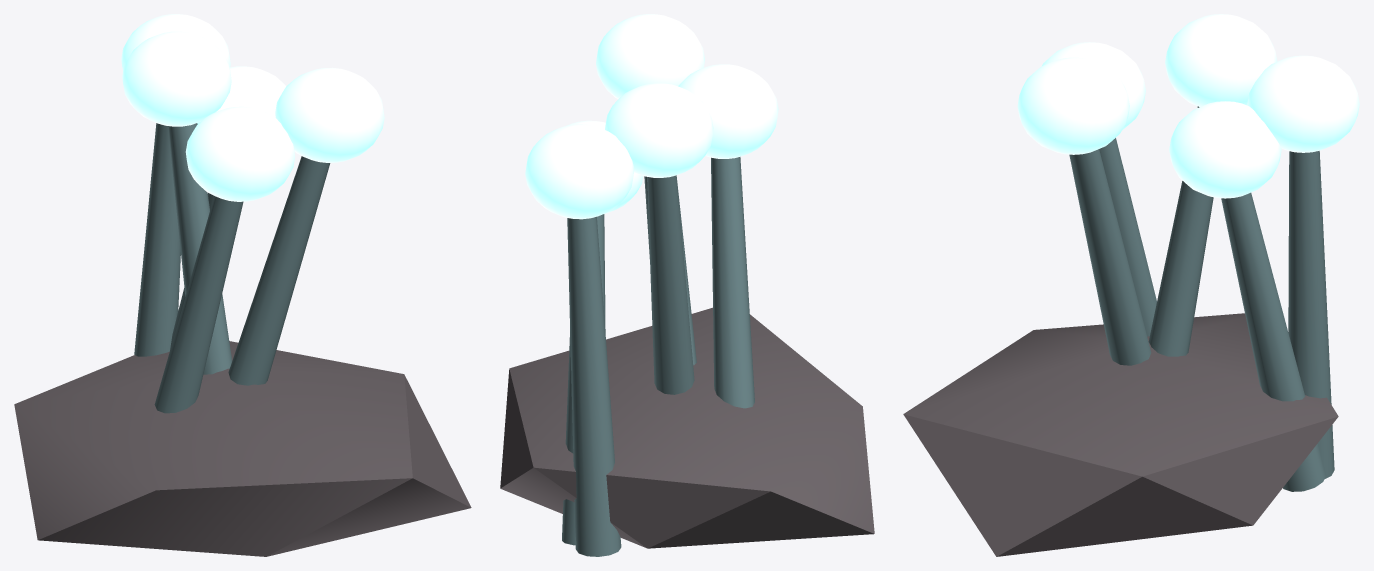
Rendered from prop_plant.glb.
The picture shows the model from 3 angles, left to right: view 1: azimuth 30°, elevation 25°; view 2: azimuth 150°, elevation 25°; view 3: azimuth 270°, elevation 25°; orthographic projection. The views are drawn at different scales.
Parts seen in each view (by area): view 1: prop_plant; view 2: prop_plant; view 3: prop_plant.
Boxes of the visible parts, bbox=[...] form: prop_plant: bbox=[14, 14, 471, 556]; prop_plant: bbox=[500, 14, 874, 556]; prop_plant: bbox=[903, 14, 1359, 556].
Size of the model in its own units: 0.4613 by 0.5591 by 0.4868.
